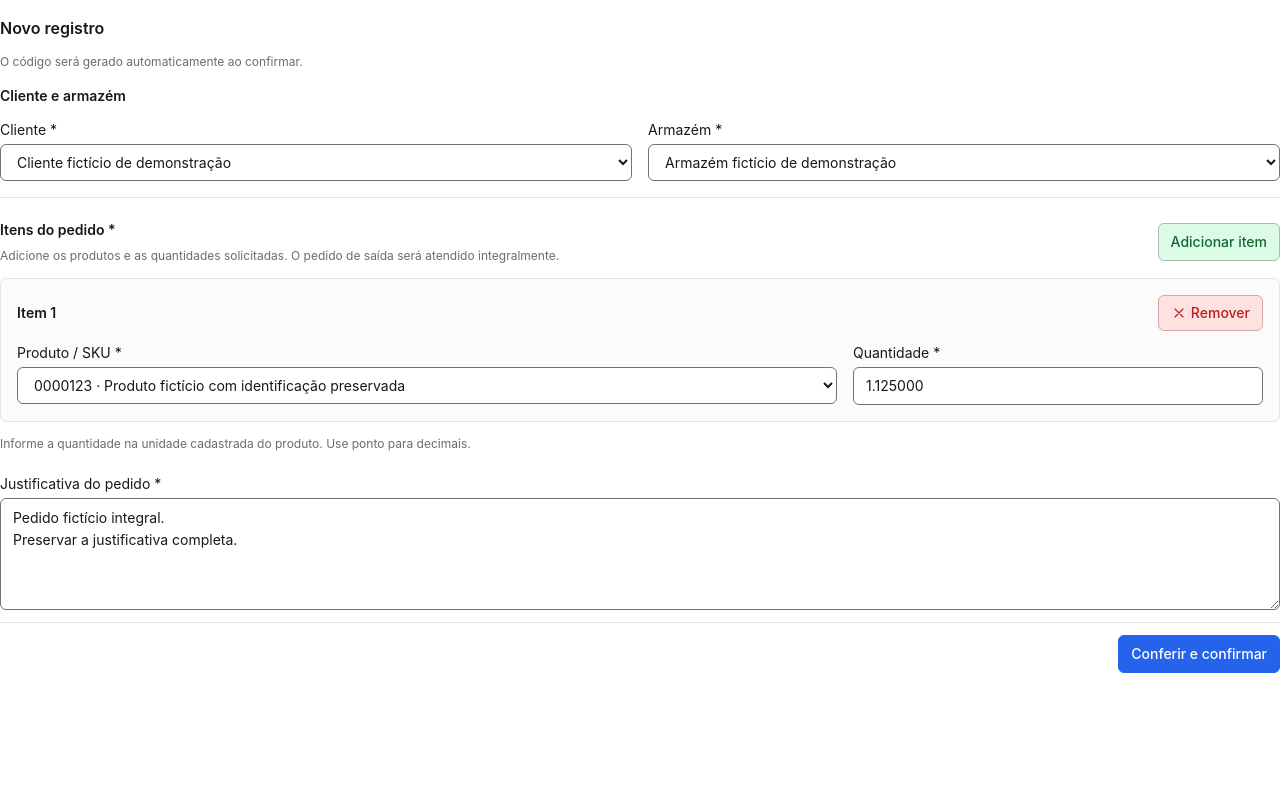
Test: resultado desconhecido mantém a orientação e os bloqueios fora dos detalhes técnicos
The image size is (1280, 800).
Step 1. Click the button "Conferir e confirmar" → (1199,654), box top-left (1118, 635), bottom-right (1279, 673)
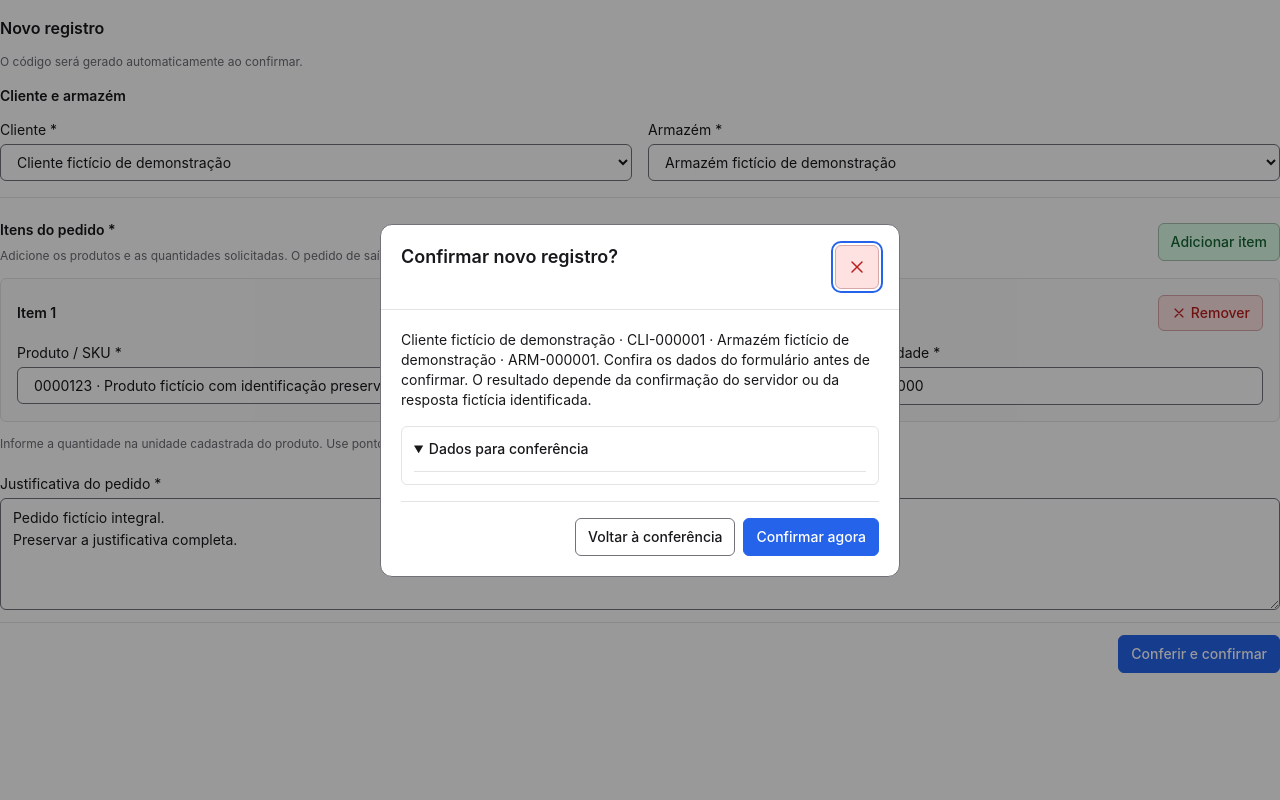
Step 2. Click the button "Confirmar agora" → (811,536), box top-left (744, 518), bottom-right (879, 556)
(page scrolled)
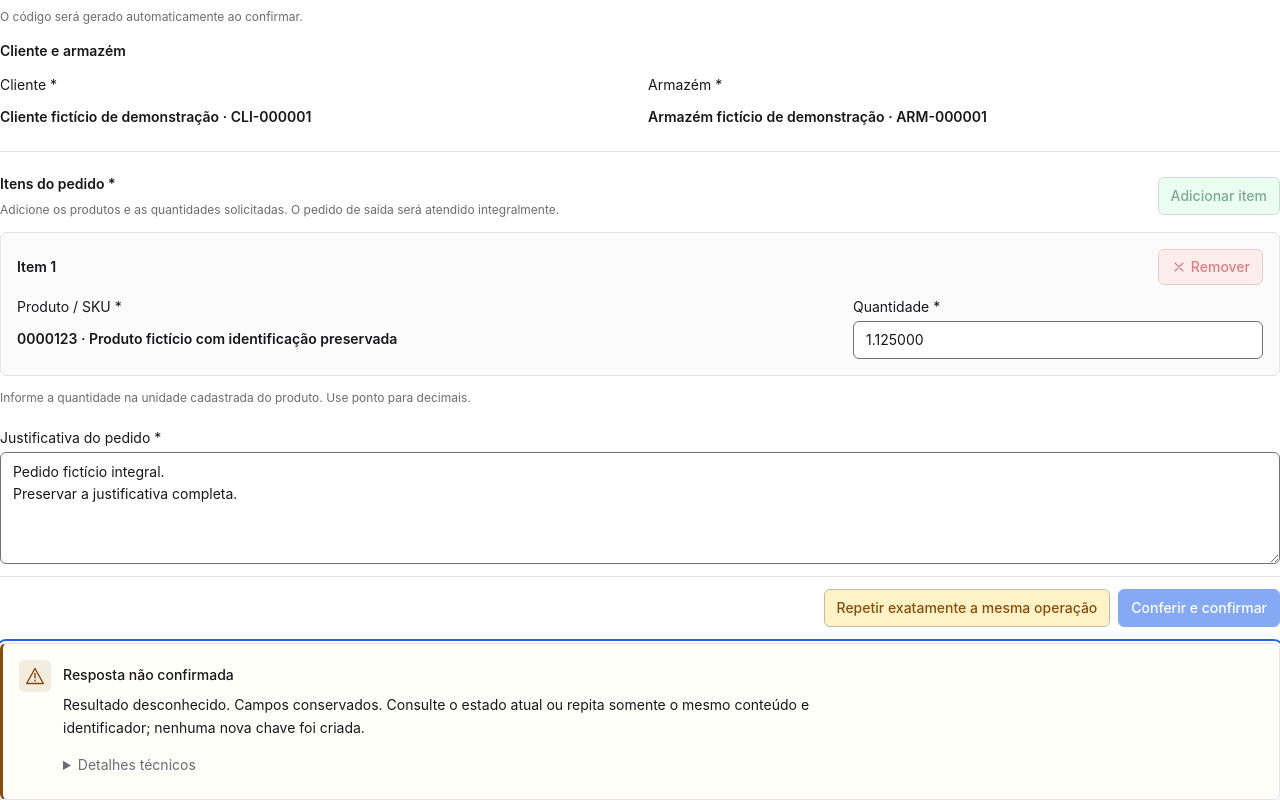
Result: the text "Resultado desconhecido. Campos conservados" is shown at top-left (63, 696), bottom-right (809, 736)
Result: the field labelled "Quantidade *" is disabled at top-left (853, 321), bottom-right (1263, 359)
Result: the button "Repetir exatamente a mesma operação" is enabled at top-left (824, 589), bottom-right (1110, 627)
